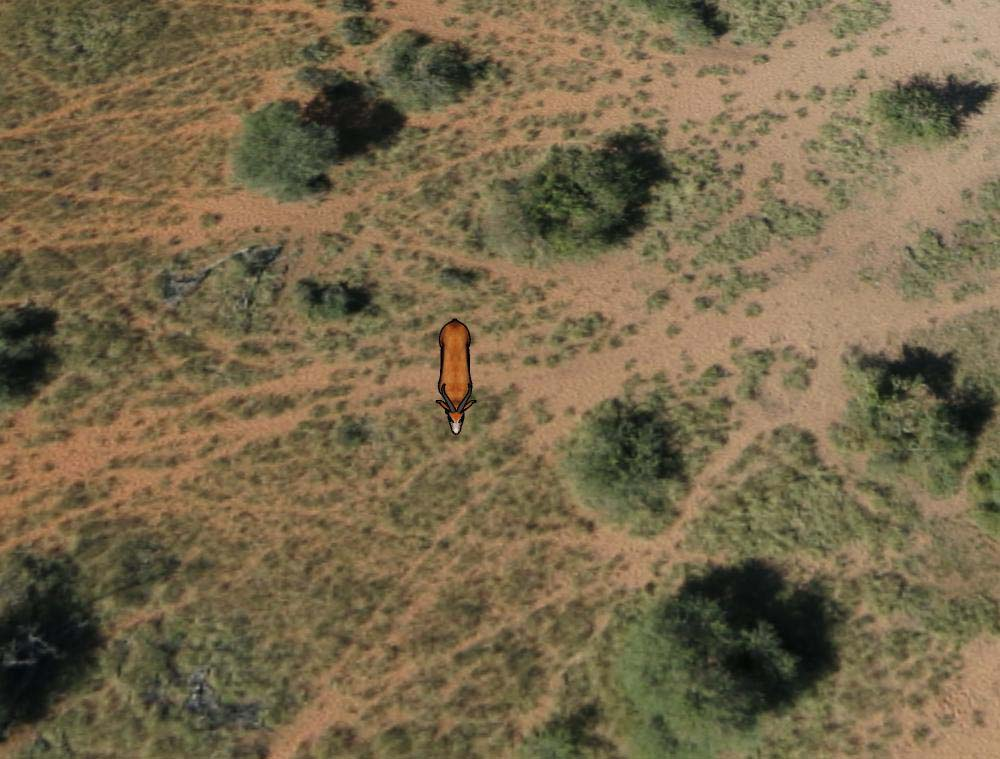springbok: (429, 317, 479, 435)
